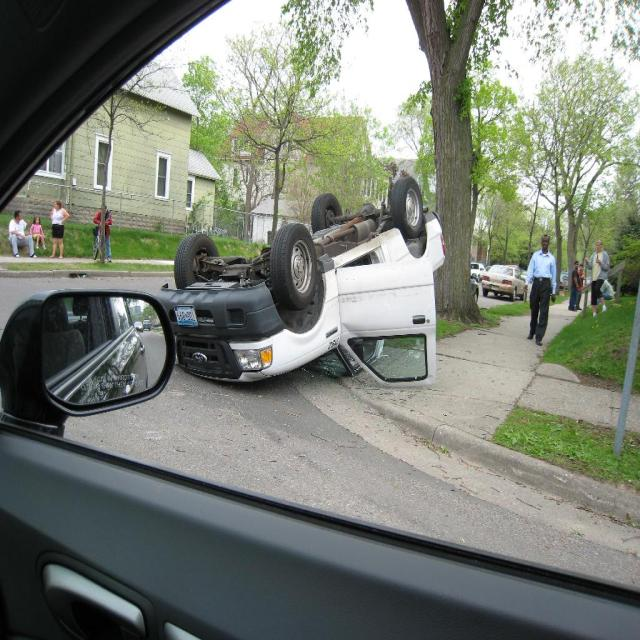car: (478, 264, 528, 301)
